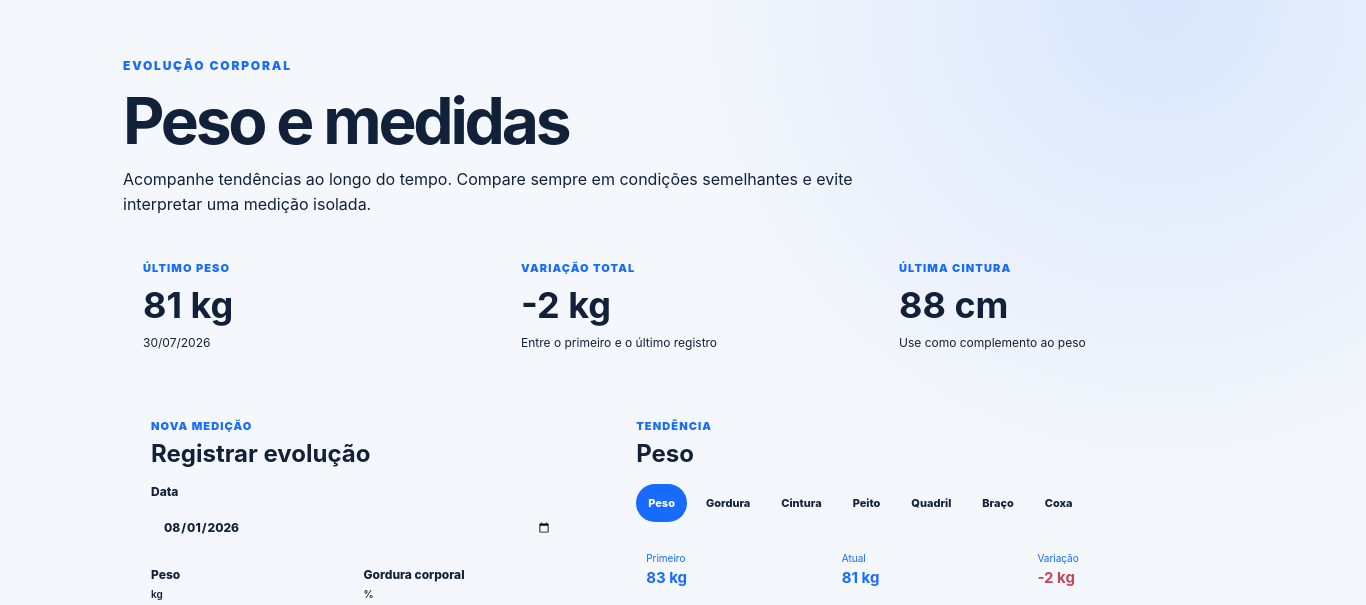
Test case: evolução corporal › permite comparar outros indicadores corporais no gráfico
Step 1. Click the tab "Cintura" → (802, 503), box [769,484,834,522]
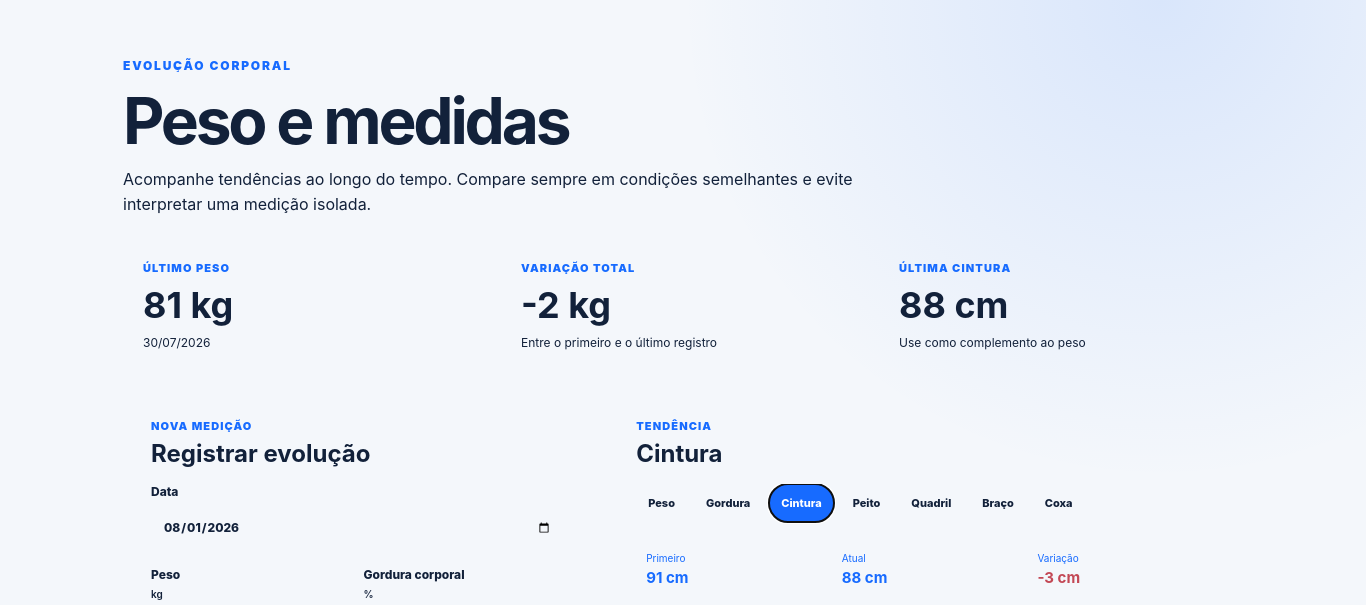
Expected: the text "-3 cm" is shown, [1037,568,1080,587]
